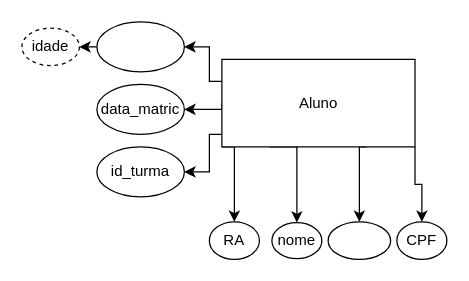
The diagram is 469 pixels wide and 281 high, and some of its shapes have lost their labels. The shapes that lost their labels are listed below. From the top down, each one's centre as x and y in pixels, then its label:
At (x=140, y=46): "nascimento".
At (x=359, y=240): "genero".
